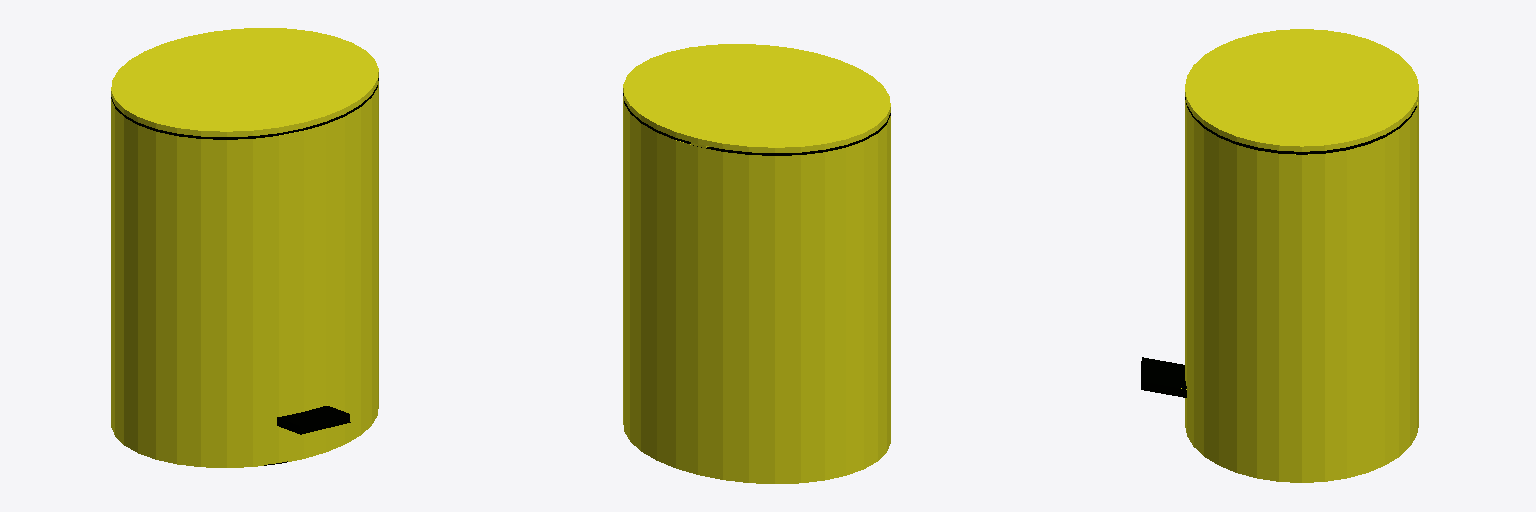
3 views of the same model, side by side, from view 1: azimuth 30°, elevation 25°; view 2: azimuth 150°, elevation 25°; view 3: azimuth 270°, elevation 25° (orthographic).
Visible parts, largest first — view 1: Cilindro; view 2: Cilindro; view 3: Cilindro.
Boxes of the visible parts, <box> form: Cilindro: <box>111,28,378,467</box>; Cilindro: <box>623,44,890,483</box>; Cilindro: <box>1141,29,1418,482</box>.
Size of the model in its own units: 3 by 4 by 3.
1 materials, 1 textured.